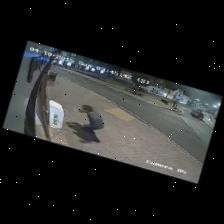person: (78, 105, 104, 142)
